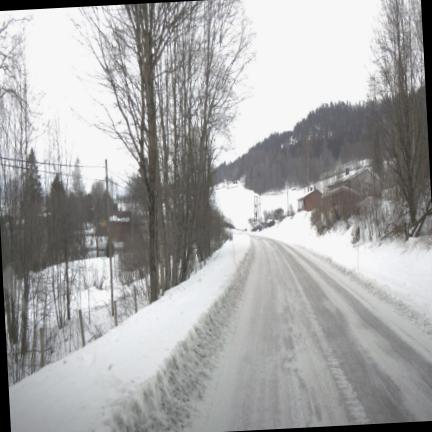Road: (188, 238, 431, 431)
